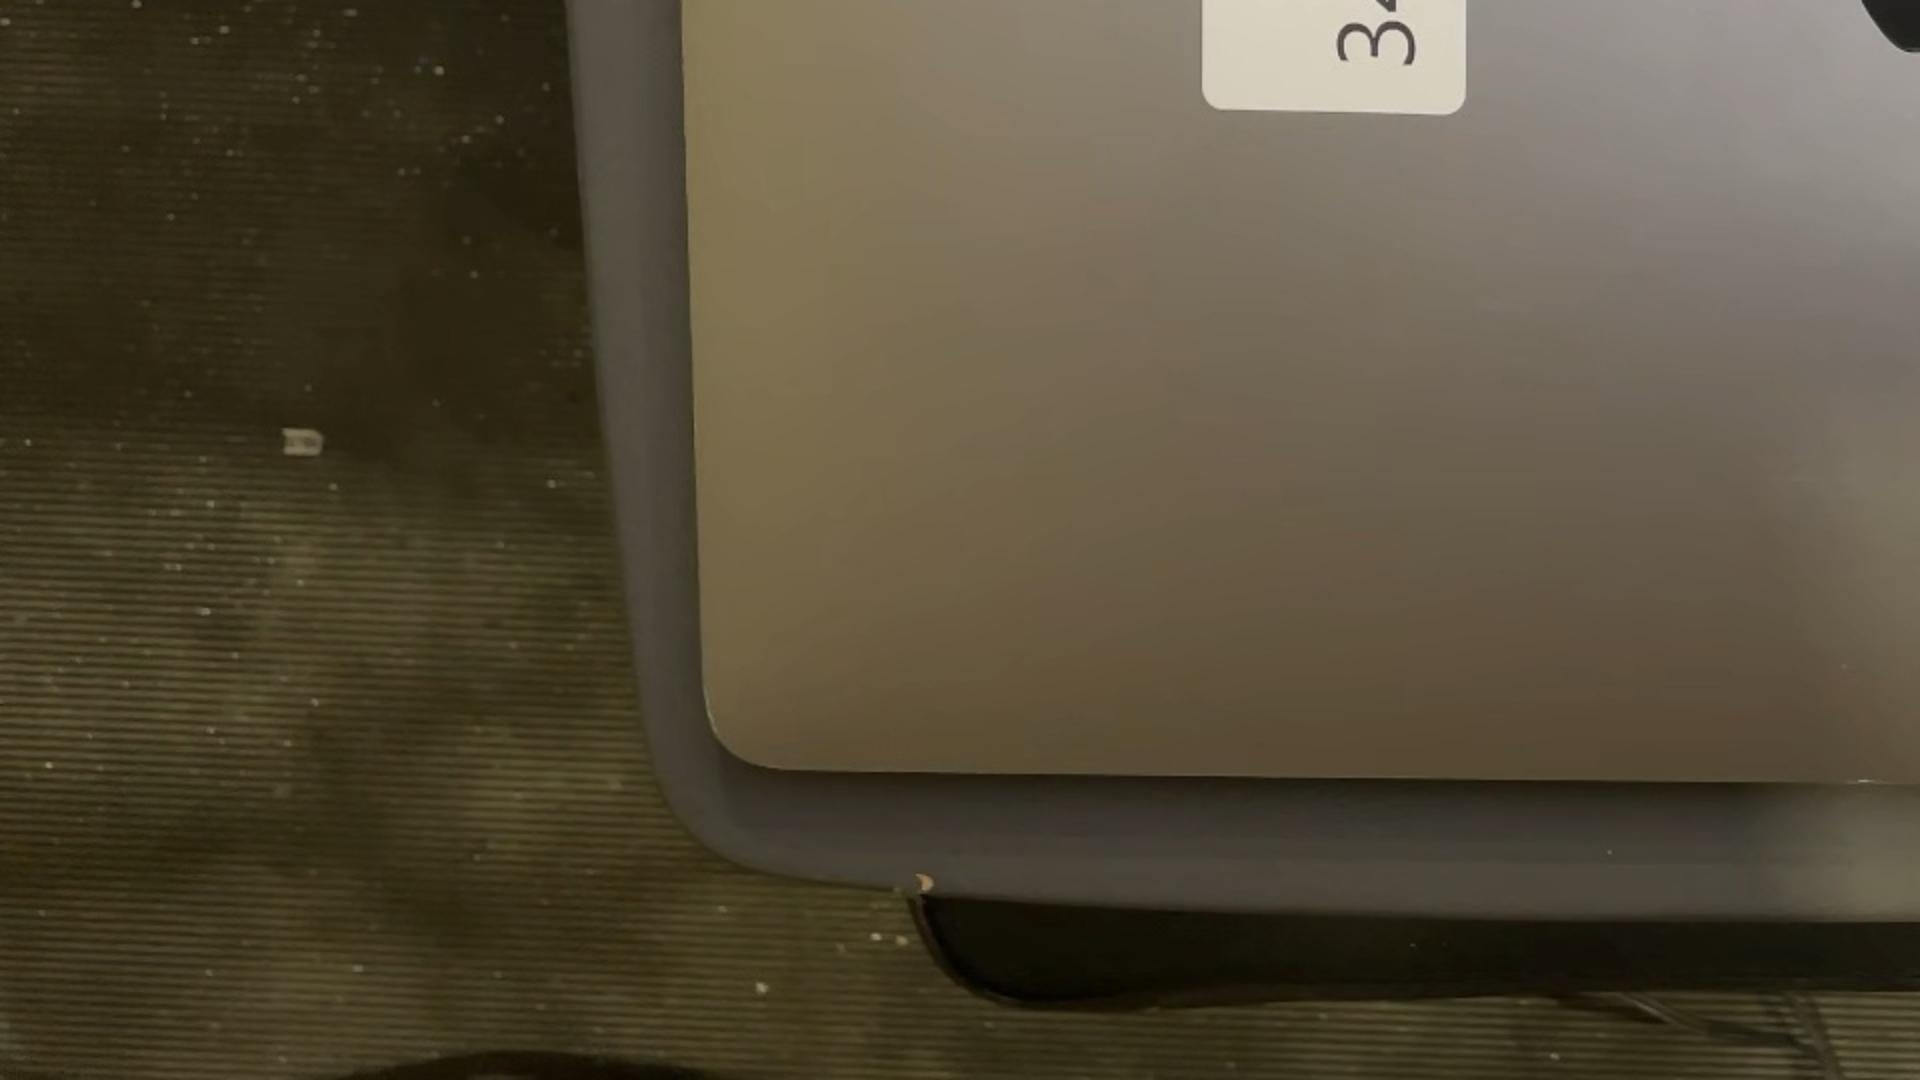scratches: (1850, 778, 1882, 784)
